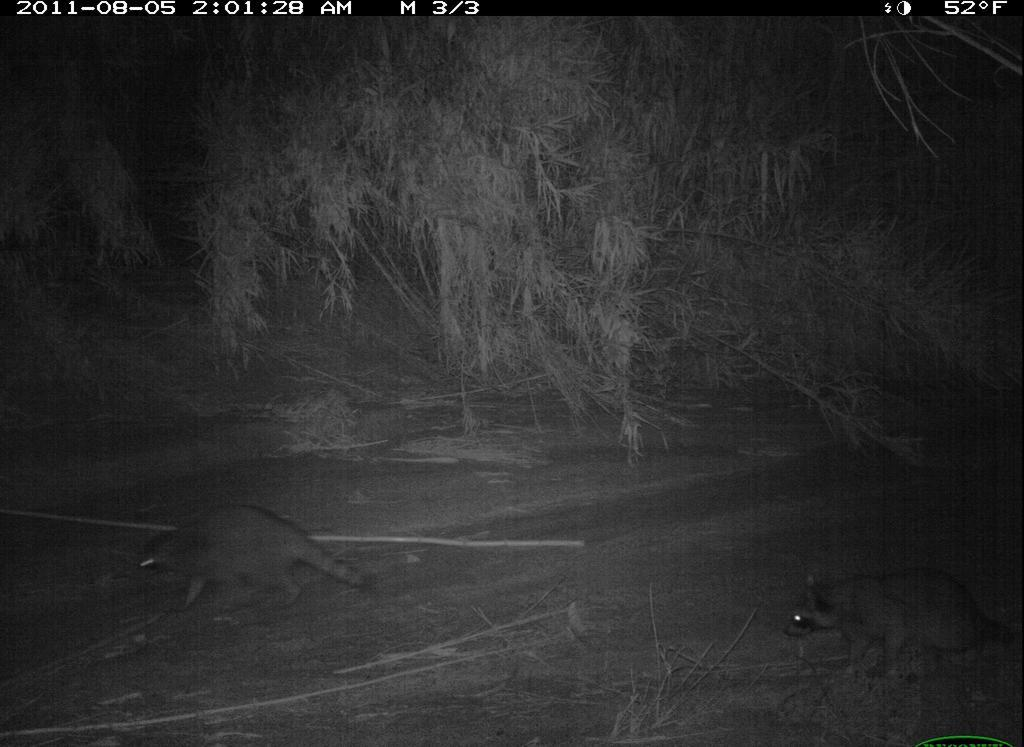raccoon: (772, 565, 1023, 685), (137, 501, 374, 623)
